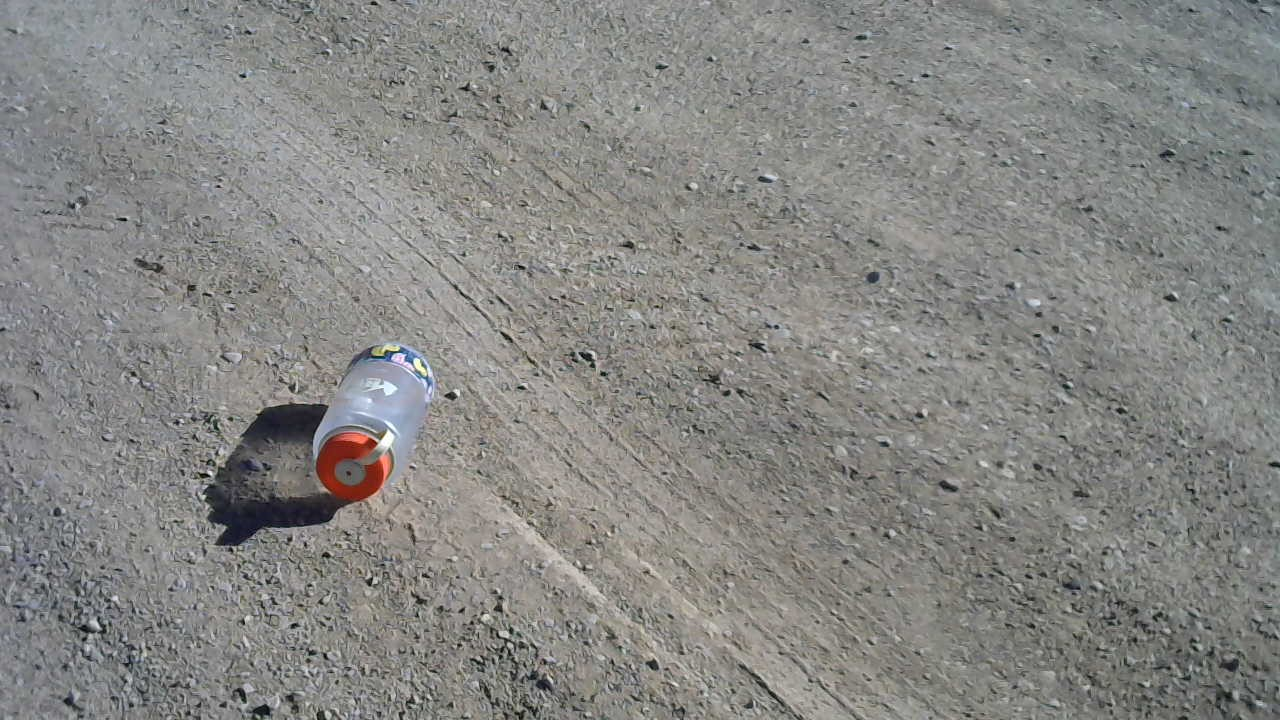bottle: (310, 336, 440, 504)
